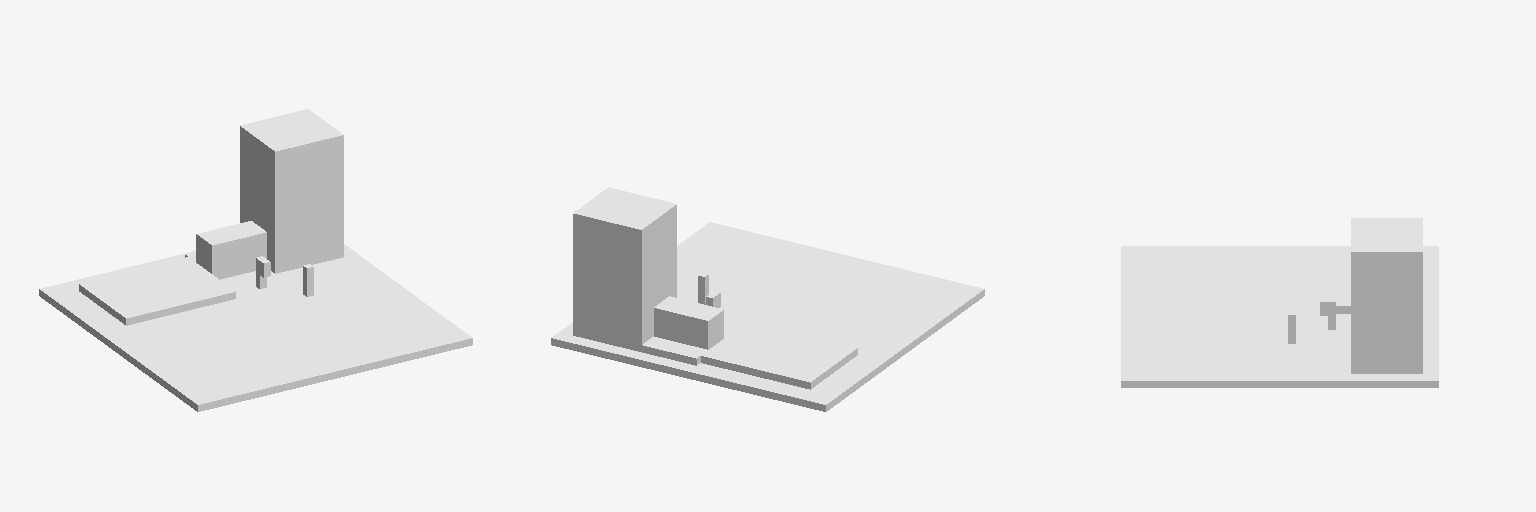
Rendered from city_selected.obj.
The picture shows the model from 3 angles: view 1: azimuth 30°, elevation 25°; view 2: azimuth 150°, elevation 25°; view 3: azimuth 270°, elevation 25°; orthographic projection.
Visible parts, largest first — view 1: object 1; view 2: object 1; view 3: object 1.
Boxes of the visible parts, x1=… form: object 1: x1=39, y1=109, x2=472, y2=411; object 1: x1=551, y1=187, x2=984, y2=411; object 1: x1=1121, y1=218, x2=1438, y2=387.
Bounding box in the file's own units: 4 × 1.8 × 4.